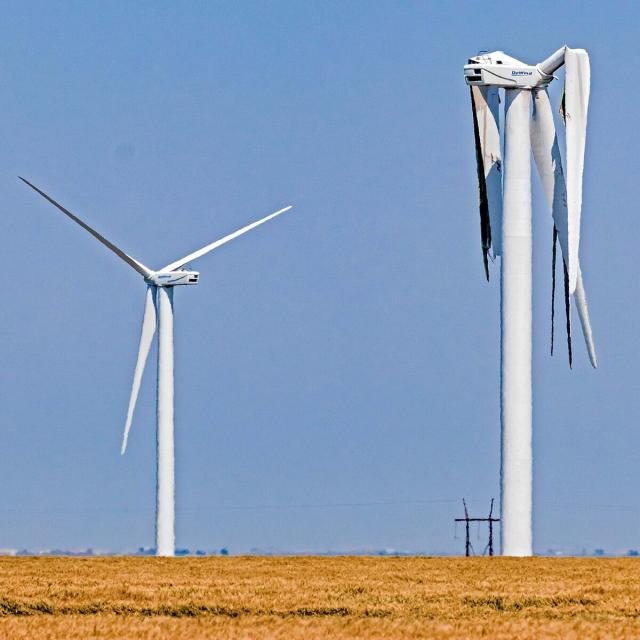damaged-blade: (471, 86, 502, 278)
solid-blade: (530, 48, 598, 366), (20, 178, 154, 278), (160, 206, 291, 272), (120, 288, 156, 453)
wind-turbine: (20, 178, 291, 556)
